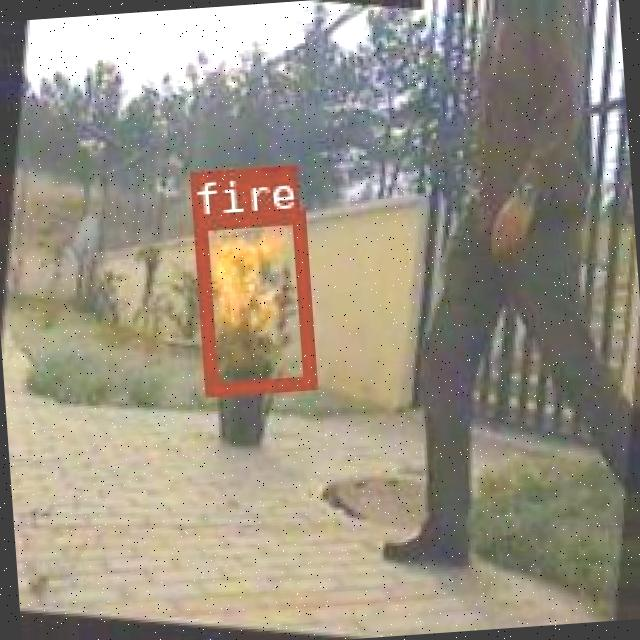fire: (191, 207, 313, 394)
